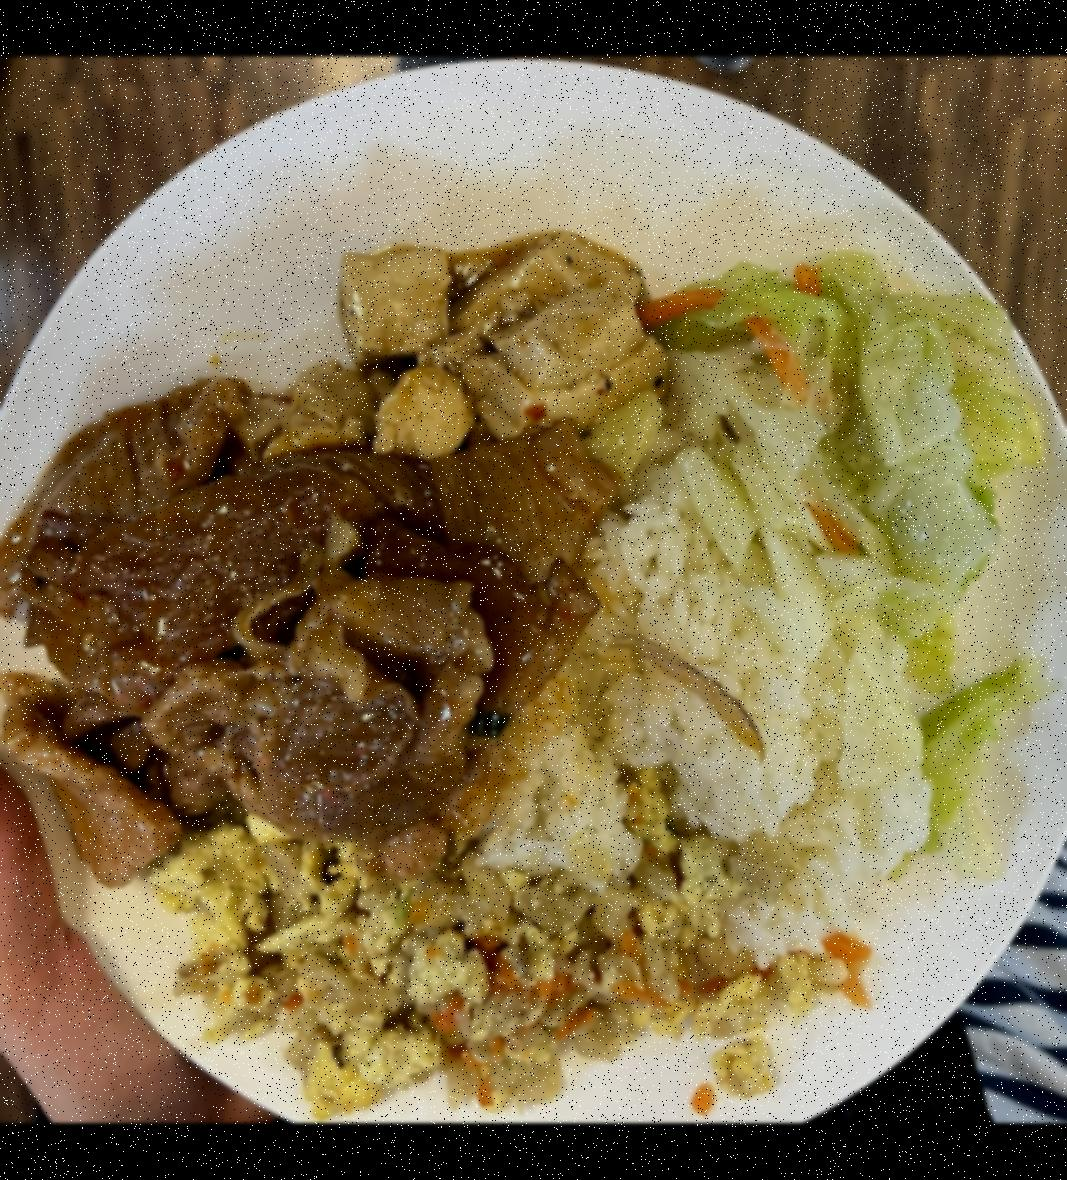big fried chicken leg: (0, 69, 1067, 1123)
big herbal chicken leg: (474, 491, 820, 877)
braised fish fillet: (657, 259, 1053, 852), (175, 834, 846, 1100), (347, 224, 673, 460)
braised pork: (4, 419, 610, 884)
